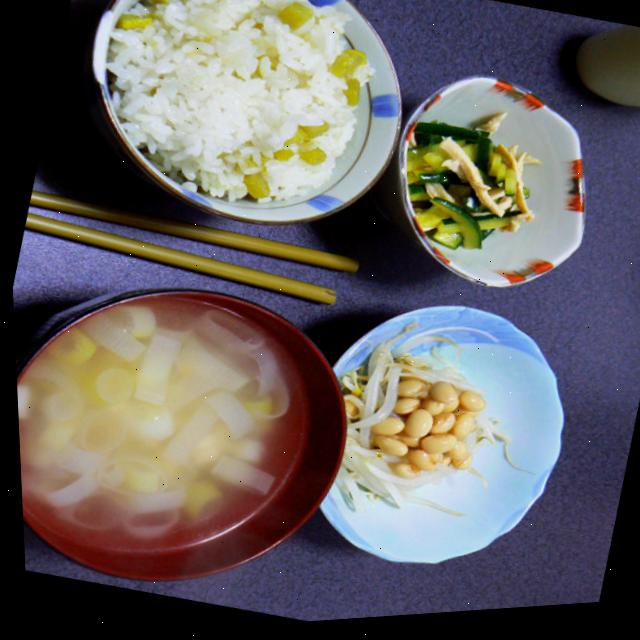米饭主食: (48, 0, 427, 260)
